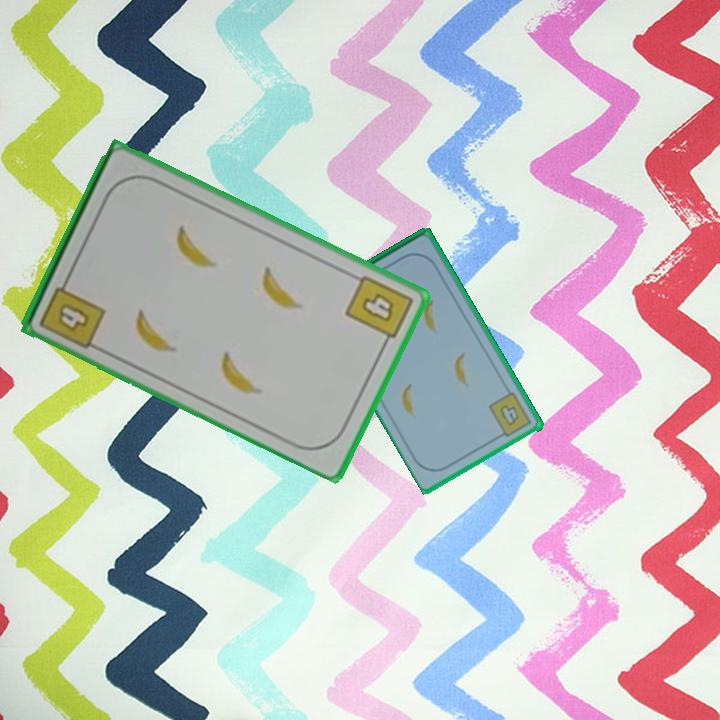4b: (341, 271, 416, 351), (36, 272, 109, 352), (486, 389, 535, 441)
